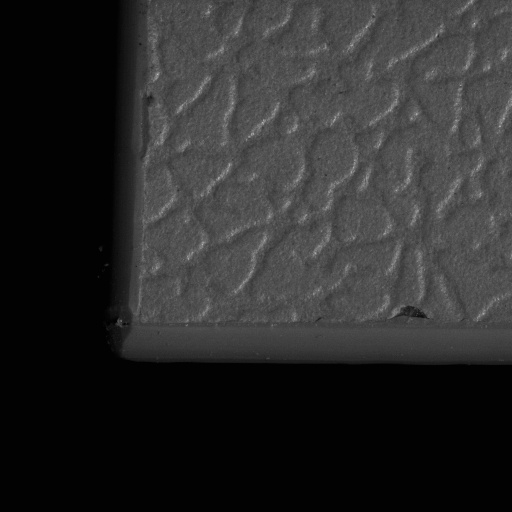bengque: (390, 302, 434, 327)
